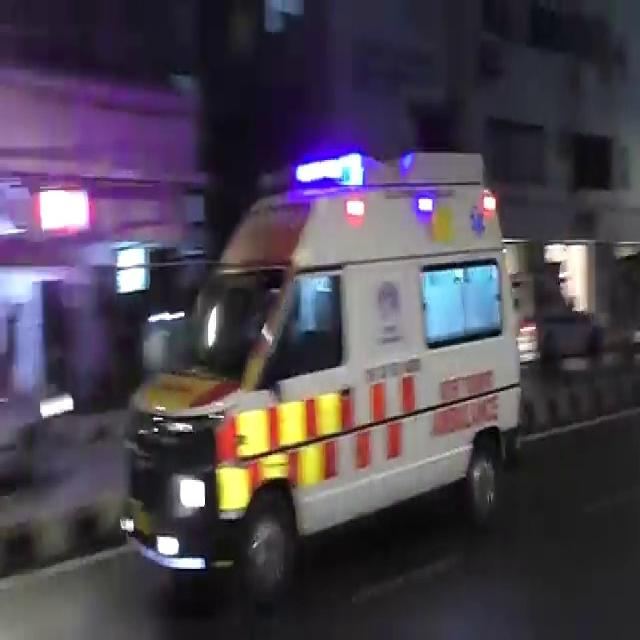ambulance: (148, 151, 511, 554)
